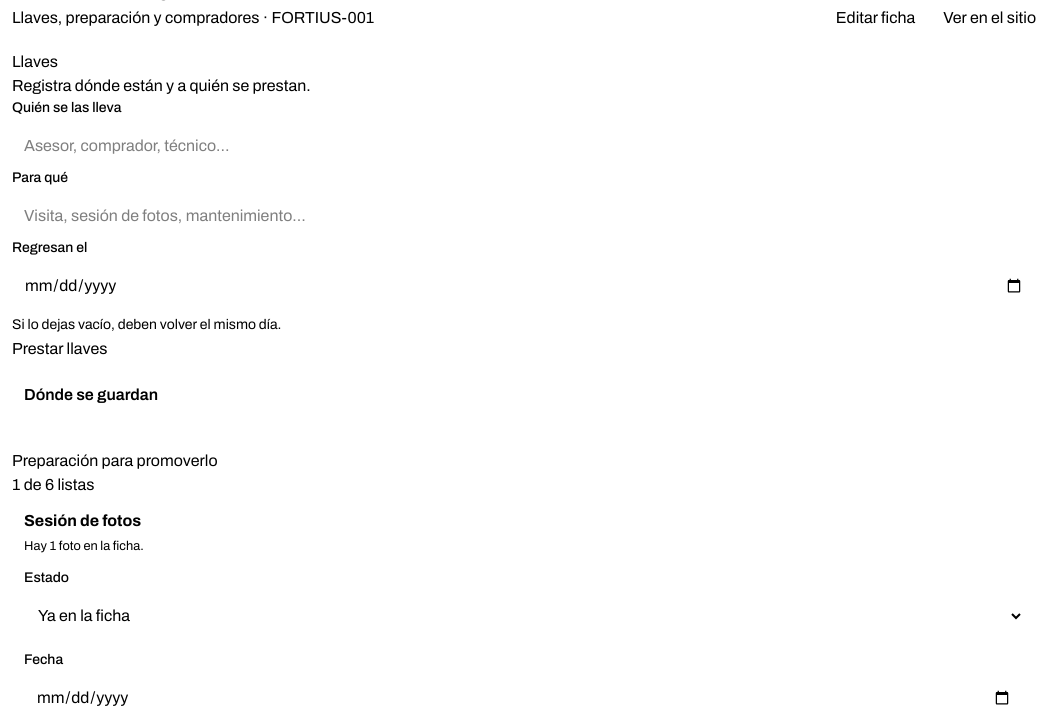
Test: se prestan llaves, se registra su regreso y se registra un aviso al comprador
The width and height of the screenshot is (1048, 727).
Type "Beto Soto" into the field labelled "Quién se las lleva".
click(524, 146); type("Beto Soto")  # box [12,124,1036,168]
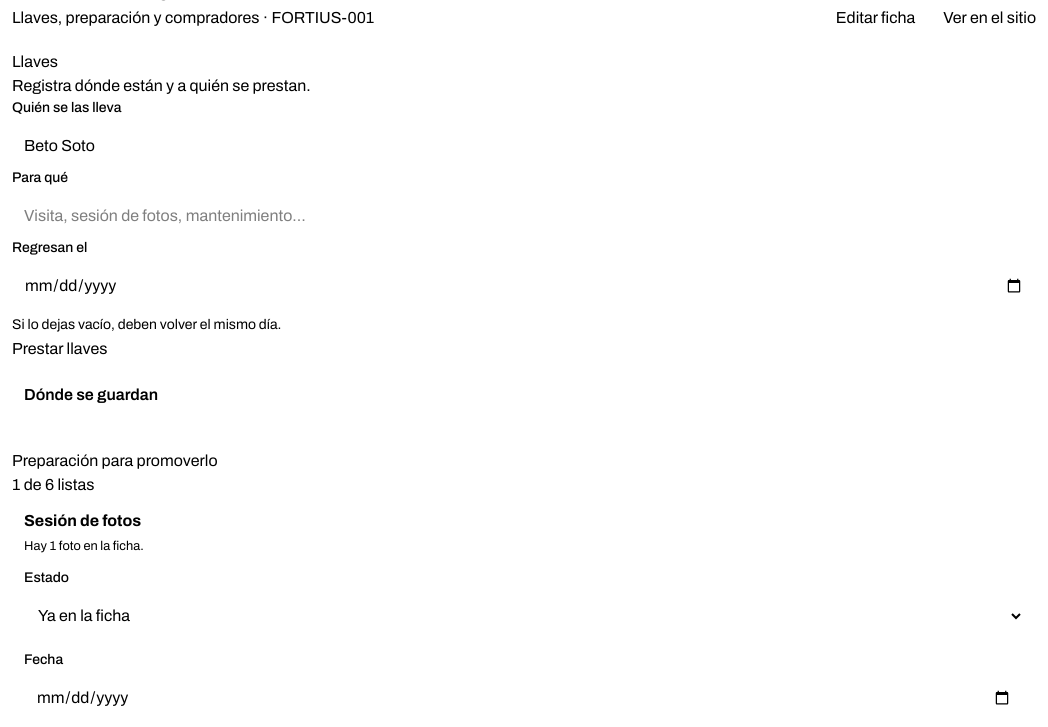
Type "Visita con comprador" into the field labelled "Para qué".
click(524, 216); type("Visita con comprador")  # box [12,194,1036,238]
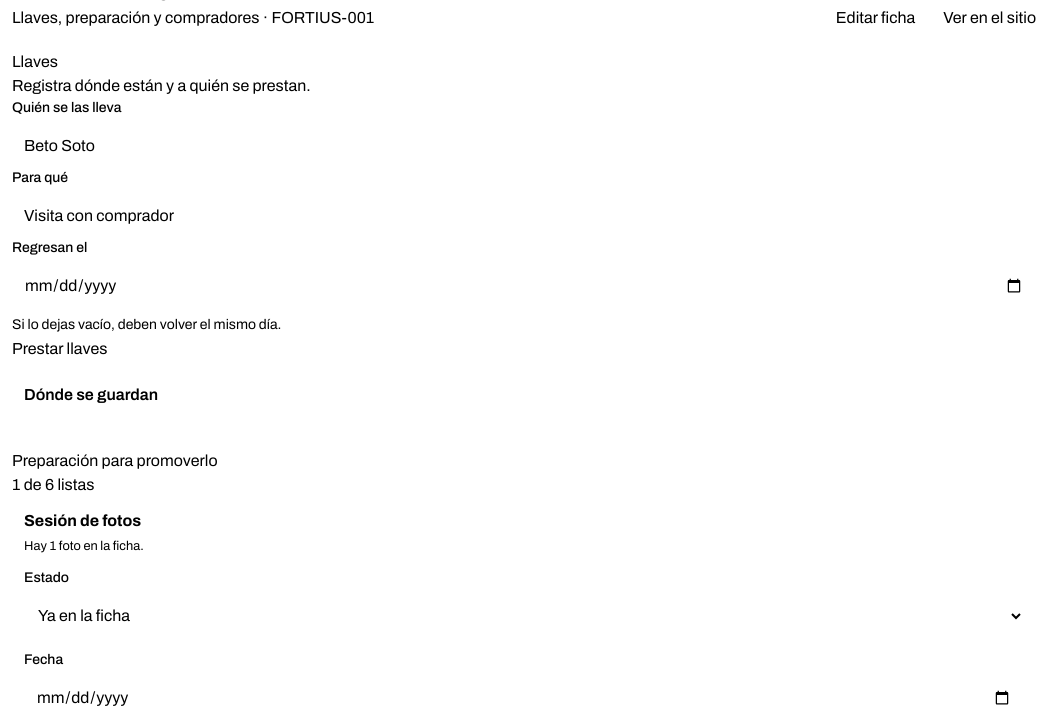
Click the button "Prestar llaves".
click(60, 348)  # box [12,336,107,360]
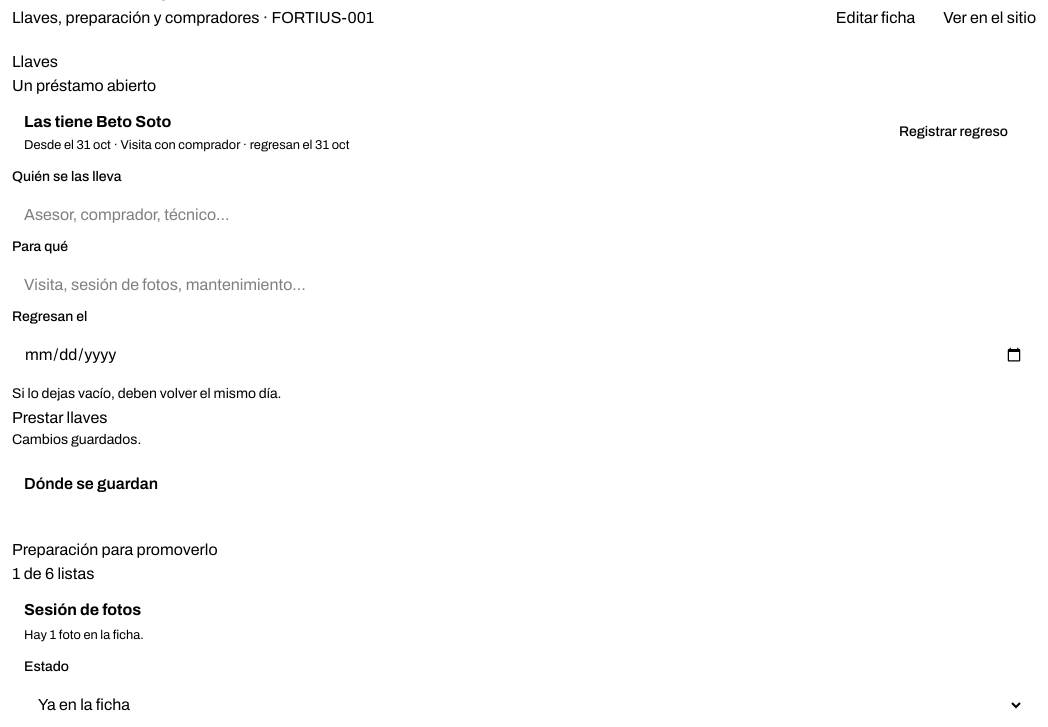
Click the button with aria-label "Registrar que Beto Soto regresó las llaves".
click(954, 132)  # box [883,110,1024,154]
(page scrolled)
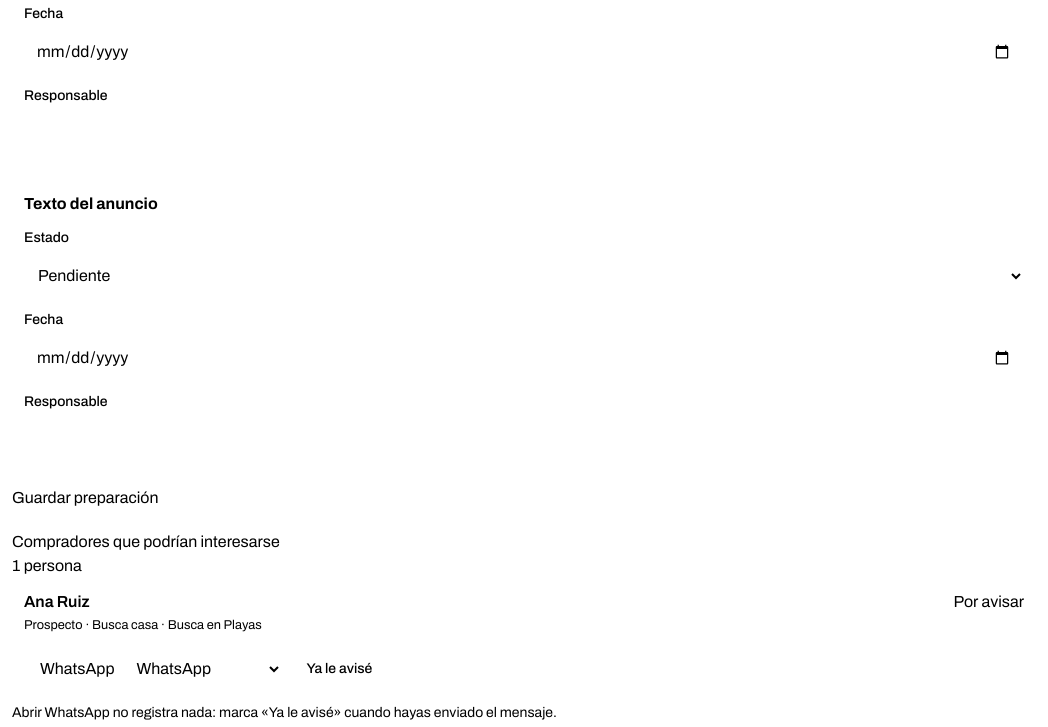
Expected: the link "Ana Ruiz" is shown, [24,593,90,610]
Click the button with aria-label "Registrar que ya le avisaste a Ana Ruiz".
click(339, 669)  # box [290,647,388,691]
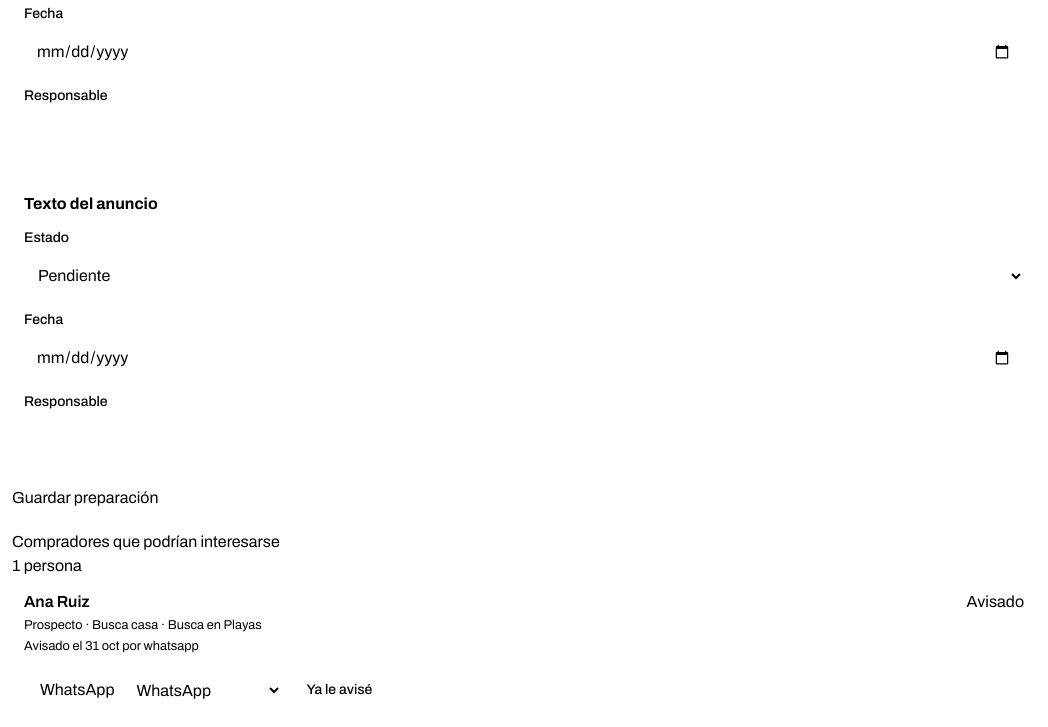
Expected: the text "Avisado" is shown, [967,590,1024,614]
